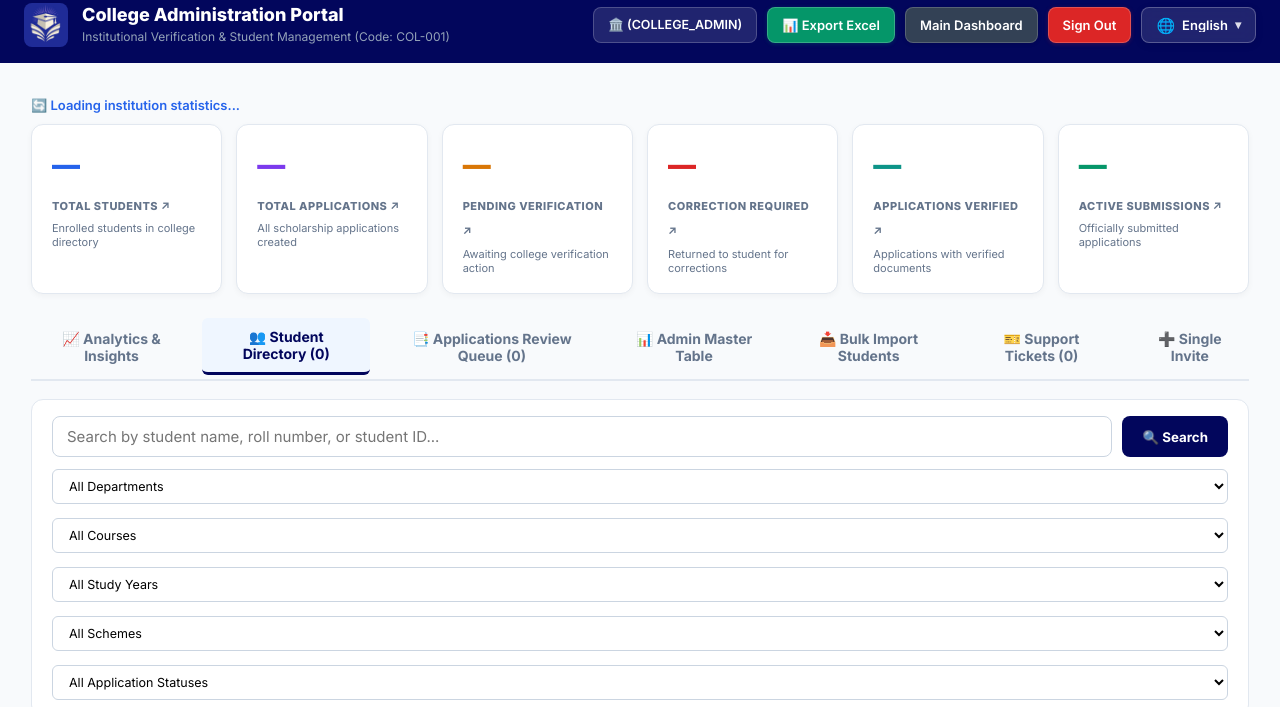
Test case: CollegeDashboard UI & Chart Usability Enhancements › 6. Clicking a bar switches to Applications Queue and displays filtered records with active scope indicator
Click the button "📈 Analytics & Insights": (112,347) [31,318,192,375]
(page scrolled)
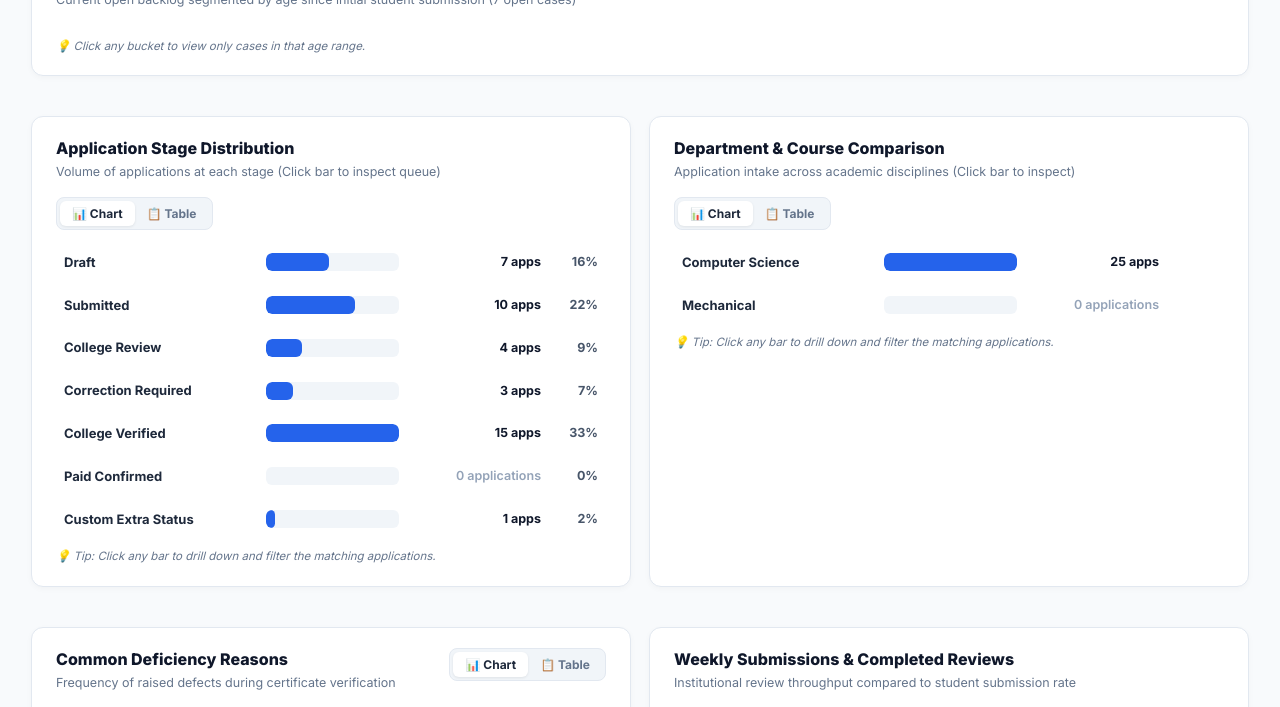
Check: the heading "Application Stage Distribution" is shown, box [56,138,294,158]
# Click on the College Review bar
Click the button with aria-label "College Review: 4 apps": (331,348) [64,339,598,357]
(page scrolled)
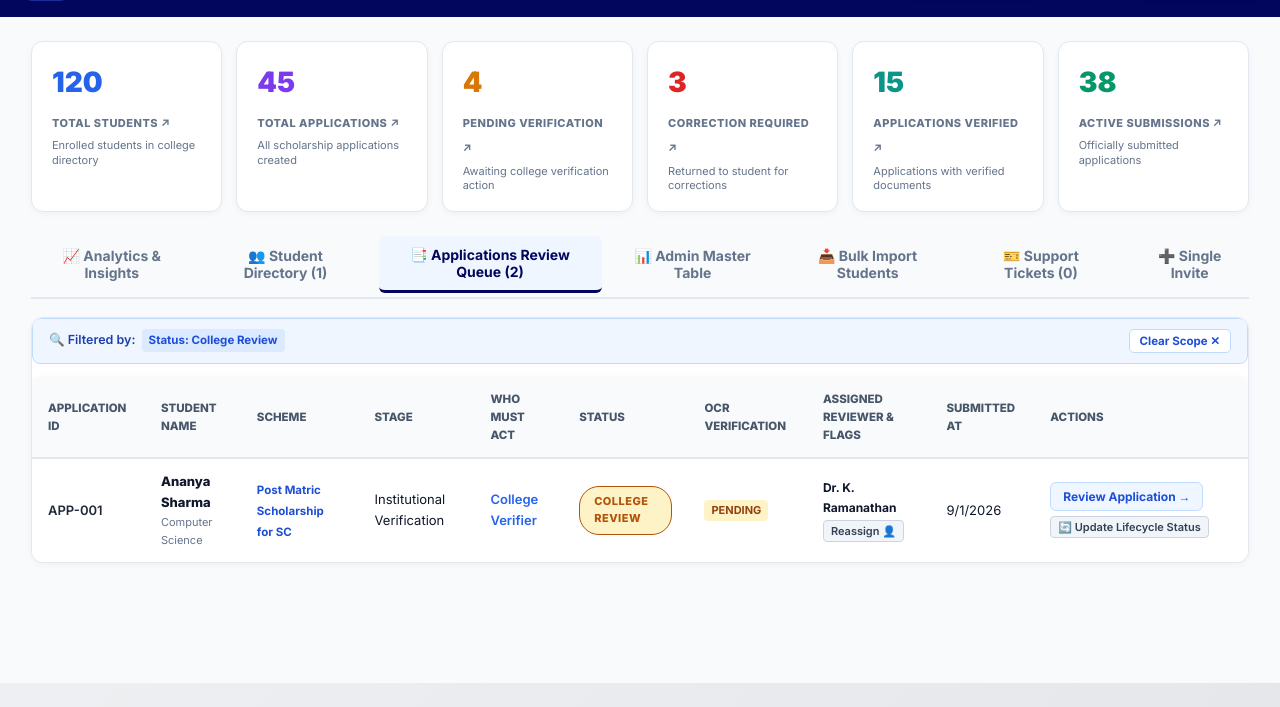
Check: the text "APP-002" is not shown
Check: the text "🔍 Filtered by: Status: College Review" is shown, box [49,329,288,352]
Check: the text "APP-001" is shown, box [48,502,103,518]
# Test clear scope button
Click the button "Clear Scope ✕": (1180,341) [1128,329,1231,353]
(page scrolled)
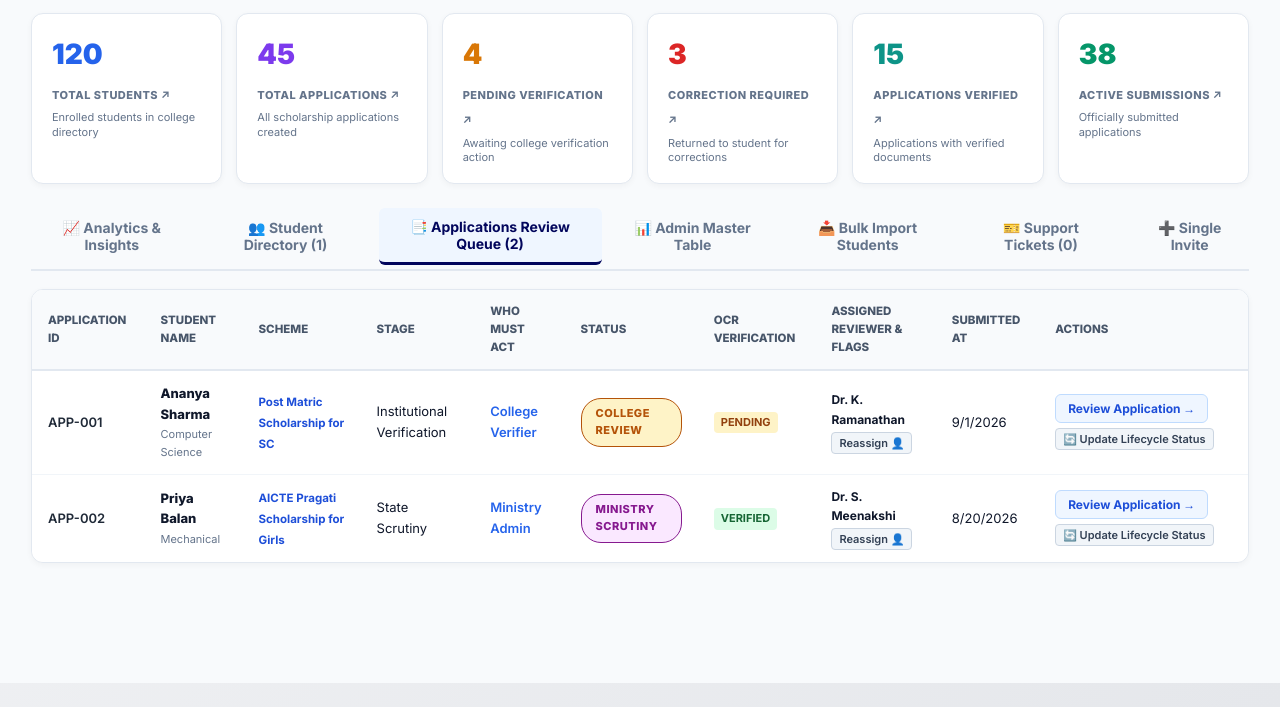
Check: the text "APP-001" is shown, box [48,414,103,430]
Check: the text "APP-002" is shown, box [48,510,105,526]
